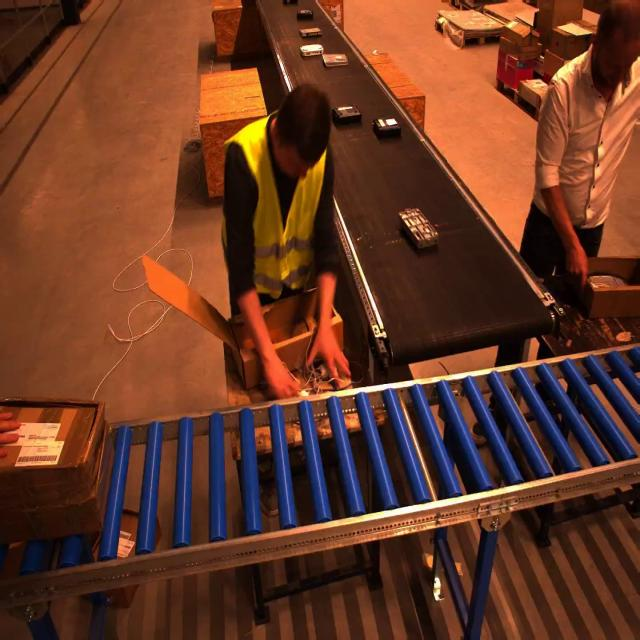box: (0, 387, 107, 522), (220, 298, 366, 377), (559, 253, 640, 312)
product: (398, 203, 440, 255), (330, 104, 365, 128), (371, 115, 403, 138), (321, 55, 351, 68), (300, 44, 324, 56), (299, 27, 324, 38), (296, 8, 315, 22), (280, 0, 300, 5)
